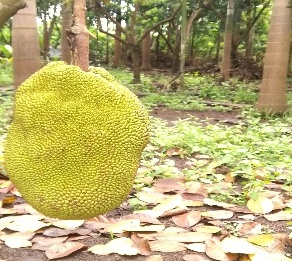Mit: (3, 60, 152, 221)
